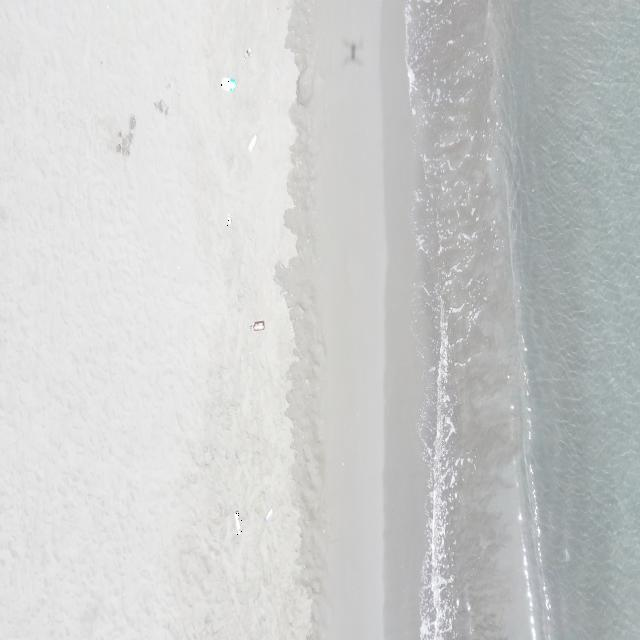Garbage: (116, 115, 134, 155), (220, 76, 236, 91), (152, 99, 167, 114), (233, 511, 240, 533), (247, 134, 256, 151), (252, 320, 263, 329), (264, 508, 272, 520), (226, 216, 231, 226), (244, 48, 251, 55)
